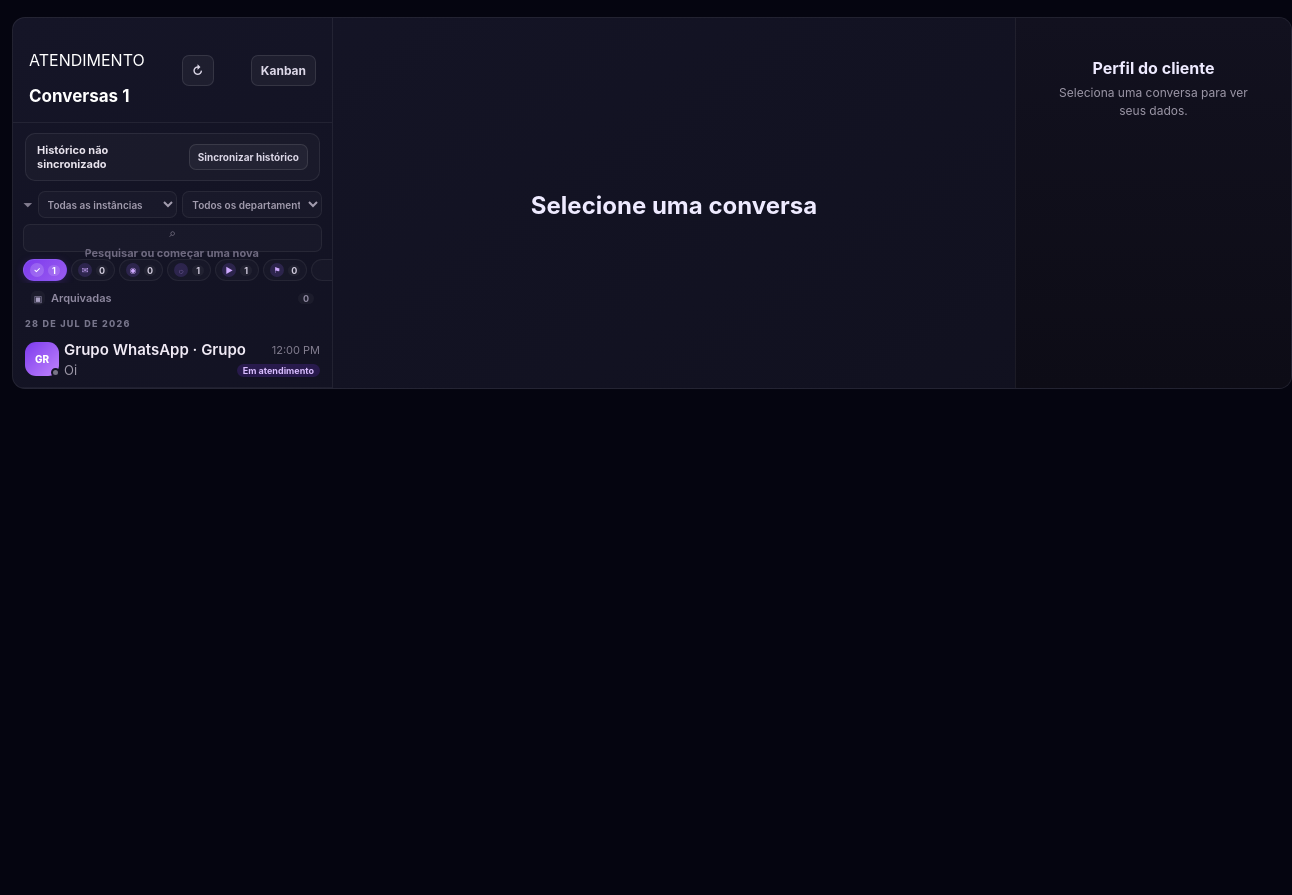
Test case: Inbox group mentions › arrow keys navigate and Tab selects the highlighted participant
Step 1. Click the button with class "conversation-item" → [172, 360], box [13,331,332,388]
(page scrolled)
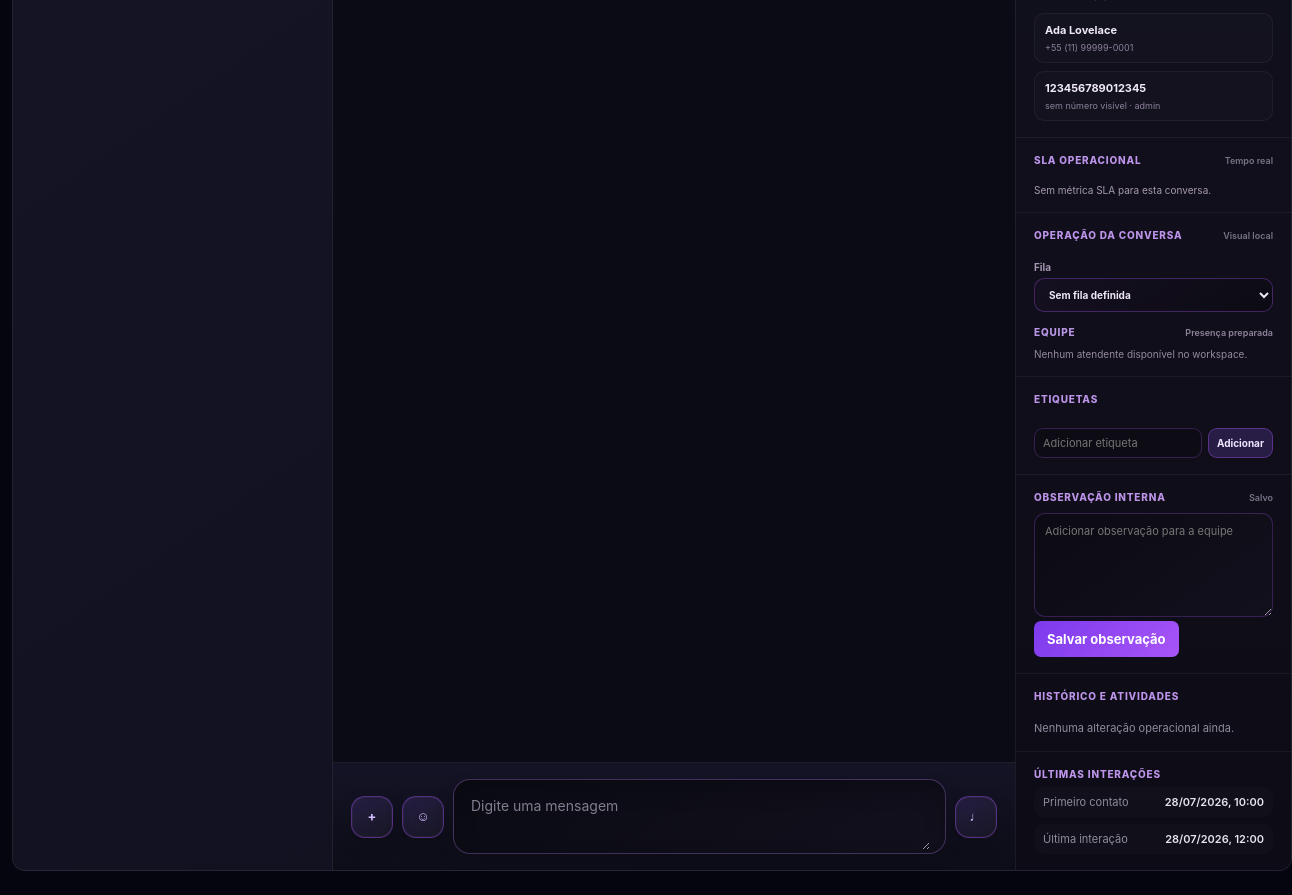
Step 2. Type "@" into the text box labelled "mensagem" → [700, 817], box [471,783,930,850]
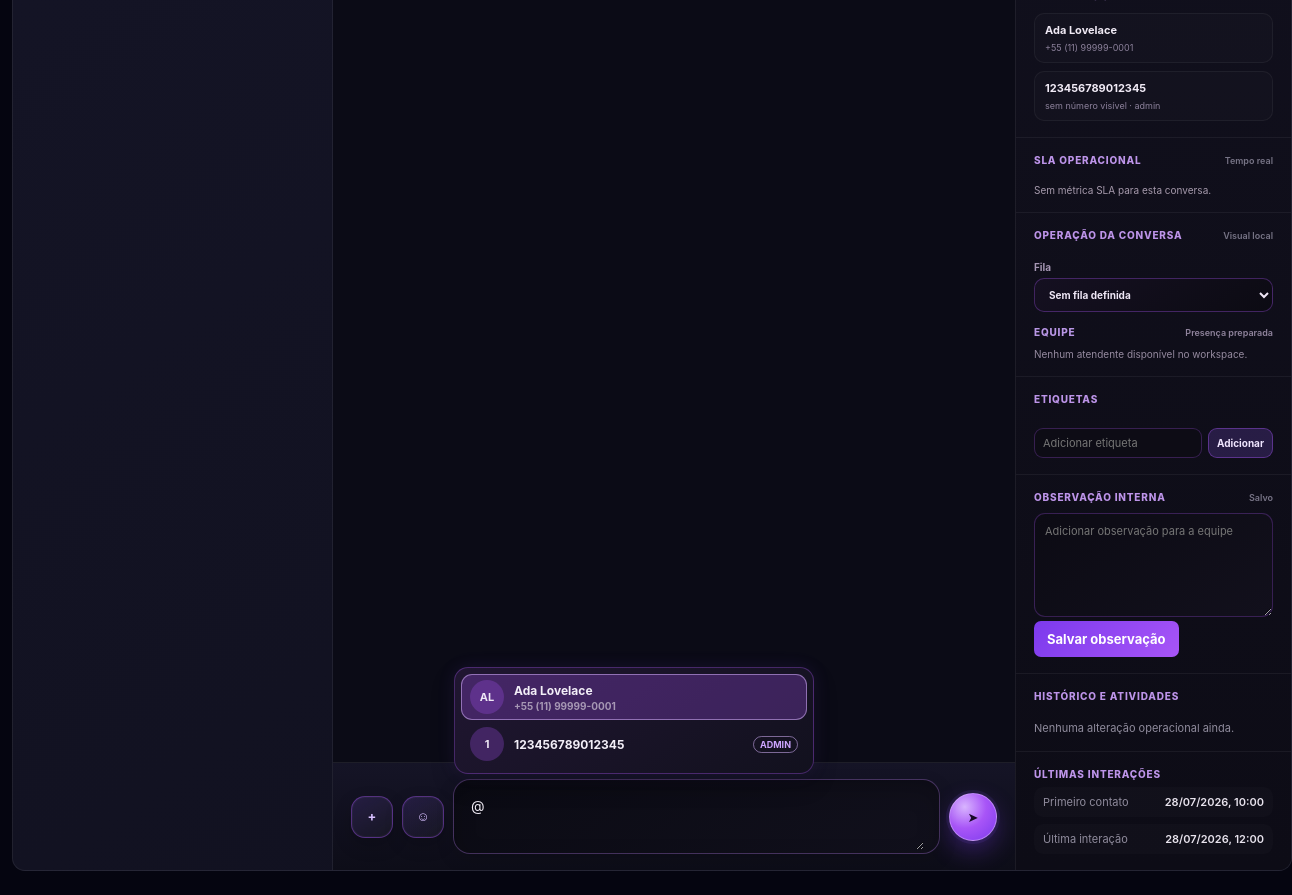
Expected: the number of options is 2, [461,674,807,720]; [461,721,807,767]
Step 3. Press ArrowDown in the text box named "mensagem", box [471,783,924,850]
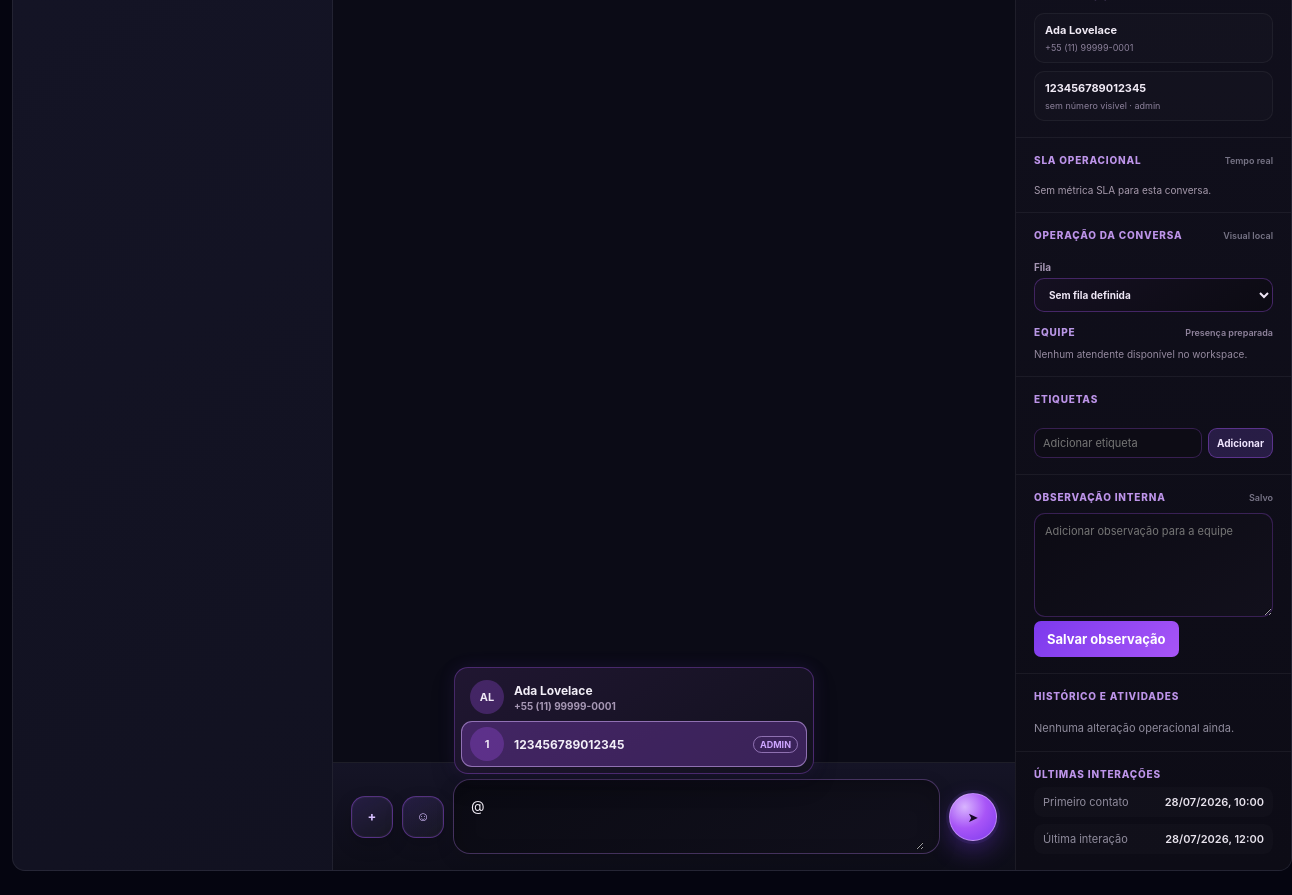
Step 4. Press Tab in the text box named "mensagem", box [471,783,924,850]
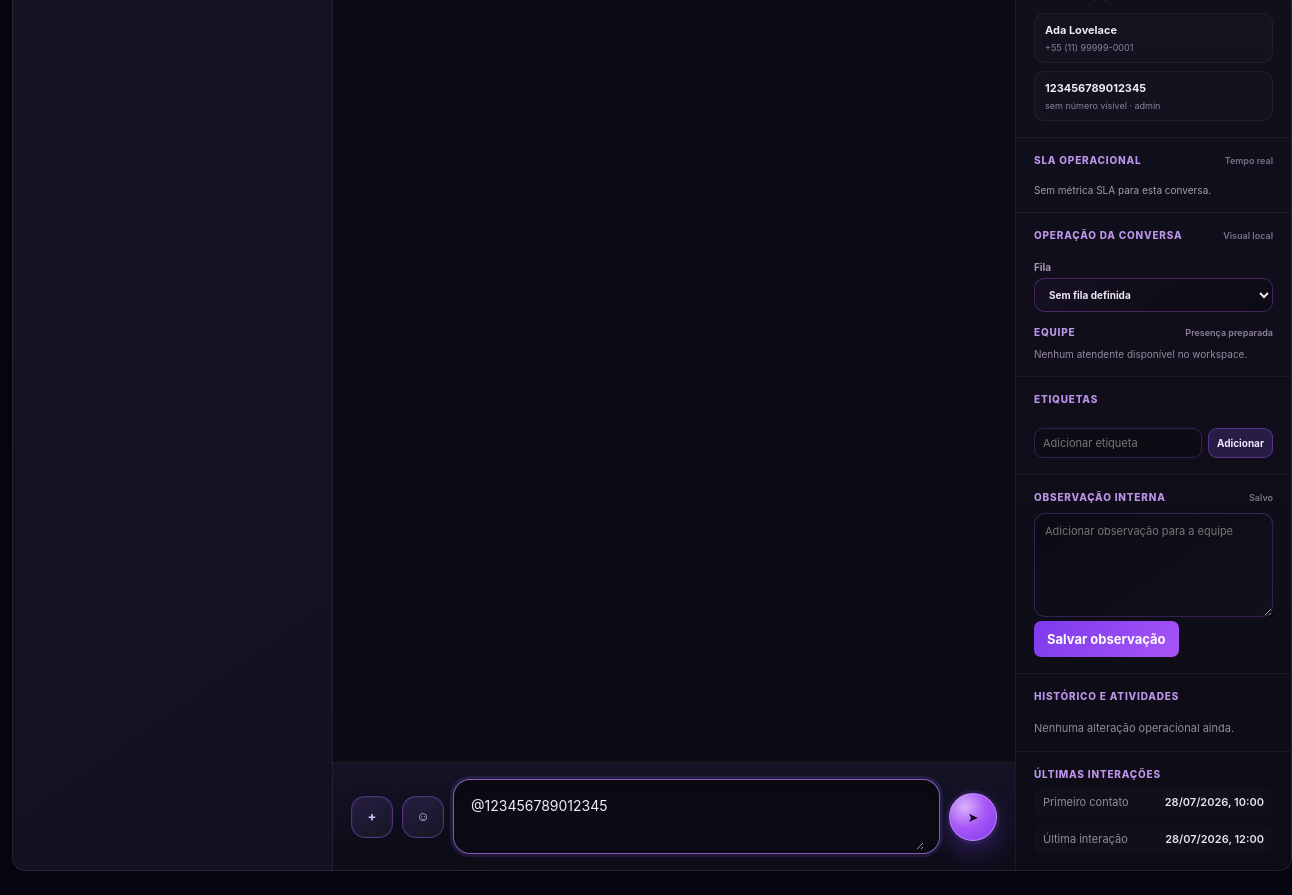
Expected: the text box named "mensagem" holds "@123456789012345 ", [471,783,924,850]
